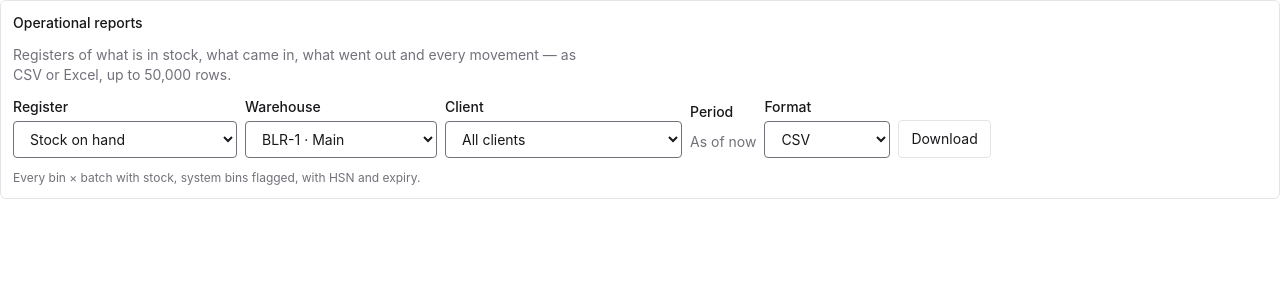
OperationalReports › a refusal renders in role="alert" by its code, the cap read from the problem; nothing is saved
Click the button "Download". click: point(945, 139)
box: [898,120,991,158]
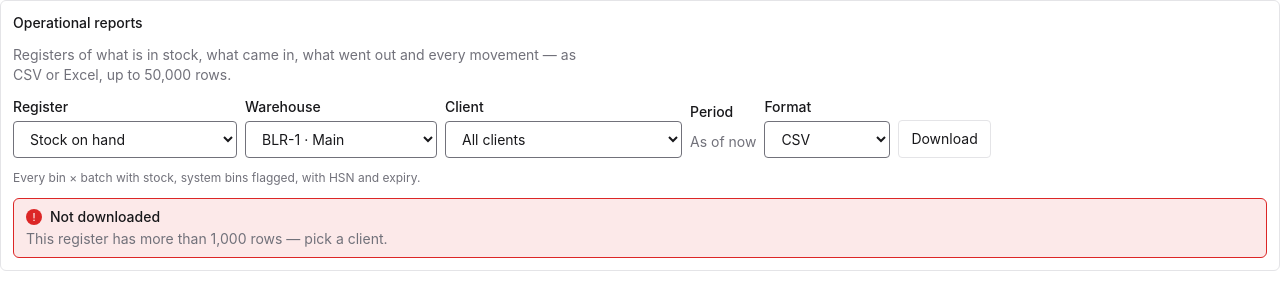
Expected: the message "! Not downloaded This register has more than 1,000 rows — pick a client." is shown, [13,198,1267,258]
